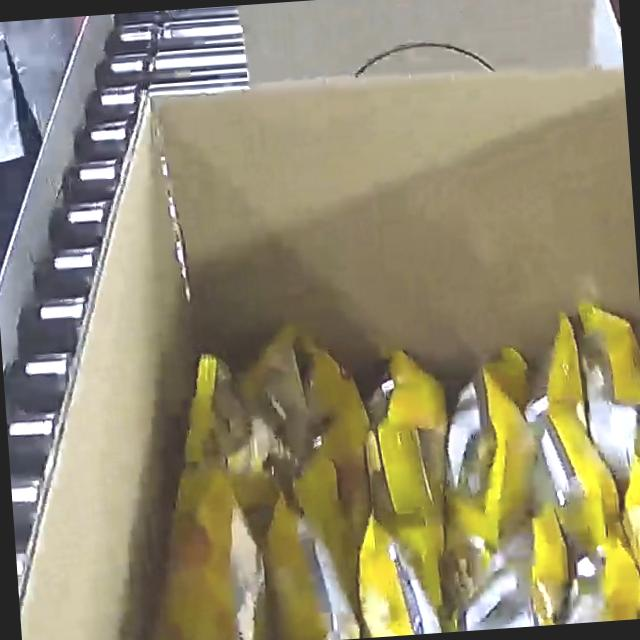salted: (117, 291, 640, 640)
